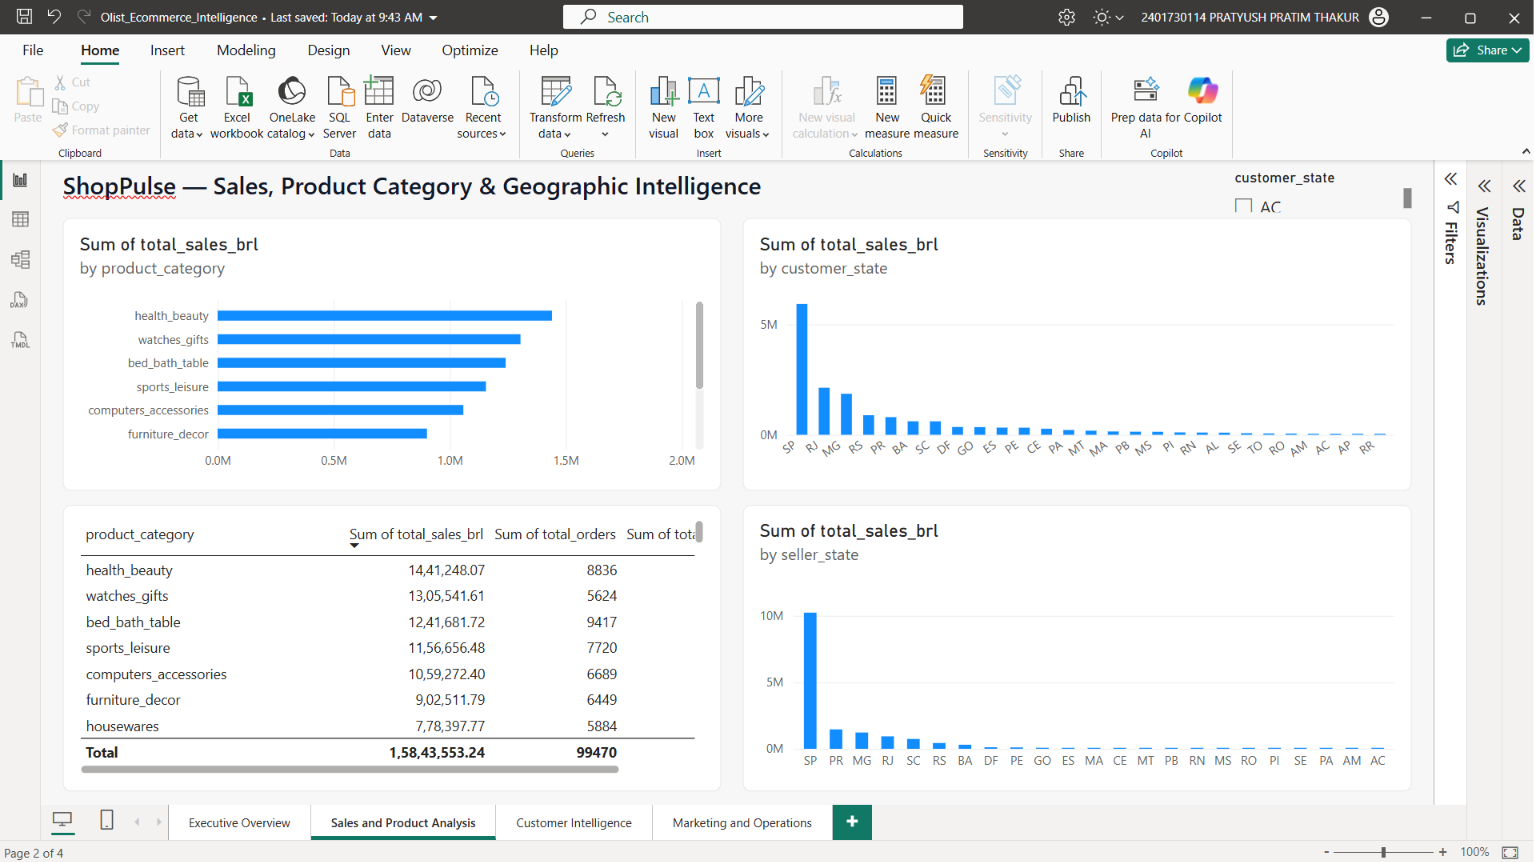

Layout of this report page (visuals, bound fields, positions):
{"tool":"powerbi","page":{"name":"Sales and Product Analysis","canvas":[1280,720],"ordinal":1},"visuals":[{"type":"textbox","box":[20,10,1055,45],"z":0},{"type":"slicer","fields":{"Values":["kpi_sales_by_state.customer_state"]},"box":[1090,10,170,48],"z":0},{"type":"clusteredBarChart","fields":{"Category":["kpi_top_10_categories.product_category"],"Y":["Sum(kpi_top_10_categories.total_sales_brl)"]},"box":[20,65,605,305],"z":0},{"type":"clusteredColumnChart","fields":{"Category":["kpi_sales_by_state.customer_state"],"Y":["Sum(kpi_sales_by_state.total_sales_brl)"]},"box":[645,65,615,305],"z":0},{"type":"tableEx","fields":{"Values":["kpi_sales_by_category.product_category","Sum(kpi_sales_by_category.total_sales_brl)","Sum(kpi_sales_by_category.total_orders)","Sum(kpi_sales_by_category.total_items_sold)"]},"box":[20,385,605,320],"z":0},{"type":"clusteredColumnChart","fields":{"Category":["kpi_sales_by_seller_state.seller_state"],"Y":["Sum(kpi_sales_by_seller_state.total_sales_brl)"]},"box":[645,385,615,320],"z":0}]}

Visuals, with their boxes on the page's 1280x720 design canvas (x1, y1, x2, y2). These are canvas units, not pixel positions in the 1534x862 screenshot, which may show the page scaled, cropped or inside an application window:
textbox: select_region(20, 10, 1075, 55)
slicer - kpi_sales_by_state.customer_state: select_region(1090, 10, 1260, 58)
clusteredBarChart - kpi_top_10_categories.product_category x Sum(kpi_top_10_categories.total_sales_brl): select_region(20, 65, 625, 370)
clusteredColumnChart - kpi_sales_by_state.customer_state x Sum(kpi_sales_by_state.total_sales_brl): select_region(645, 65, 1260, 370)
tableEx - kpi_sales_by_category.product_category x Sum(kpi_sales_by_category.total_sales_brl): select_region(20, 385, 625, 705)
clusteredColumnChart - kpi_sales_by_seller_state.seller_state x Sum(kpi_sales_by_seller_state.total_sales_brl): select_region(645, 385, 1260, 705)
